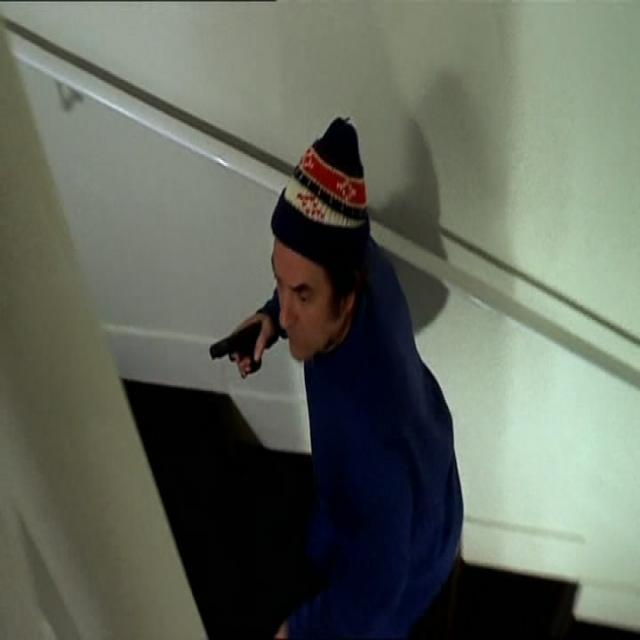gun-knife-thesis - v11 Yolov5 augmented: (203, 314, 265, 378)
